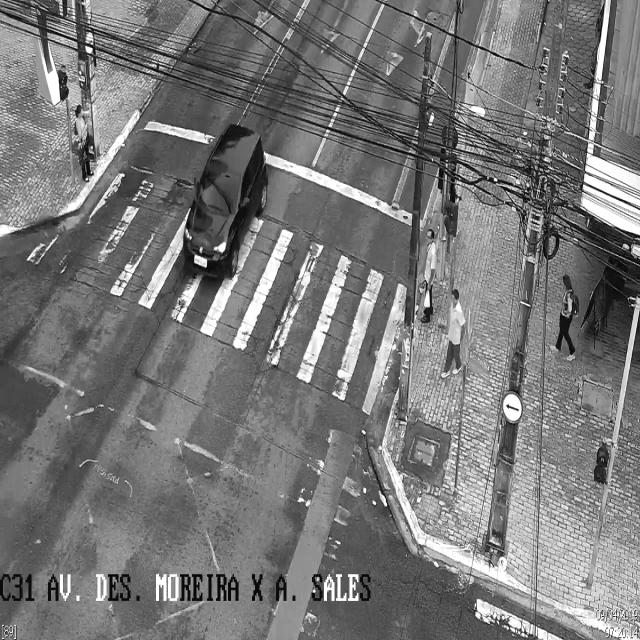Car: (182, 125, 270, 278)
